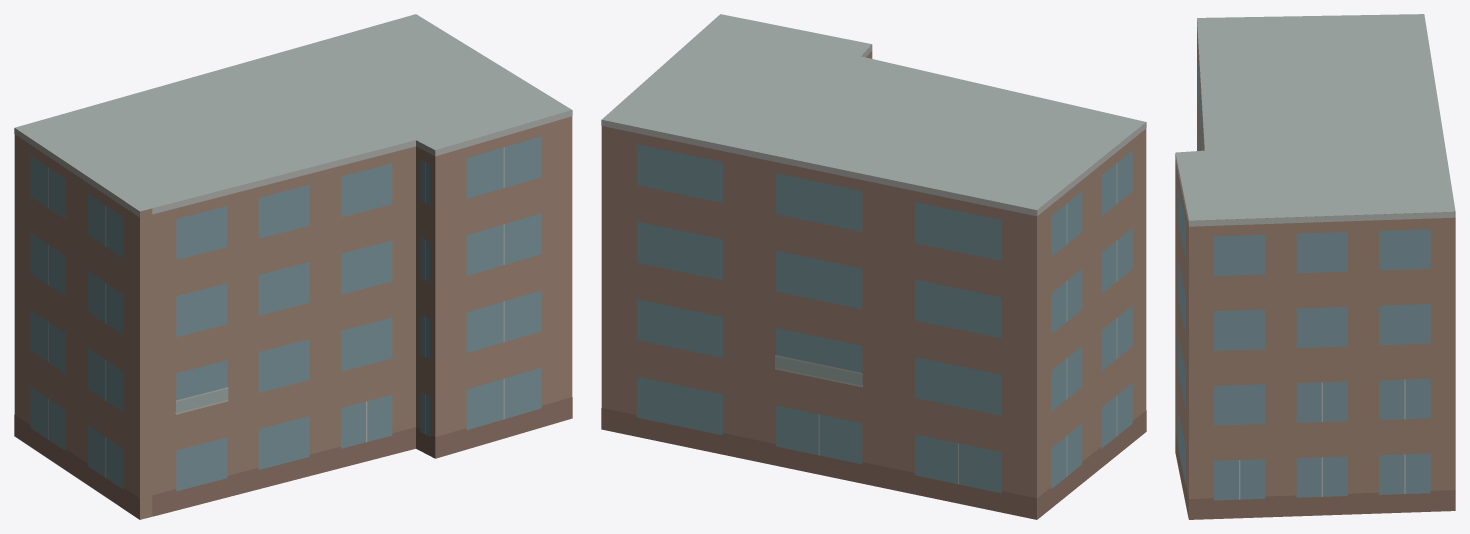
File: survey-upis-32650297.glb
The picture shows the model from 3 angles, left to right: view 1: azimuth 30°, elevation 25°; view 2: azimuth 150°, elevation 25°; view 3: azimuth 270°, elevation 25°; orthographic projection. The views are drawn at different scales.
Visible parts, largest first — view 1: survey-upis-32650297.tmp; view 2: survey-upis-32650297.tmp; view 3: survey-upis-32650297.tmp.
Boxes of the visible parts, <box> form: survey-upis-32650297.tmp: <box>14,14,572,519</box>; survey-upis-32650297.tmp: <box>601,14,1146,519</box>; survey-upis-32650297.tmp: <box>1175,14,1455,519</box>.
Size of the model in its own units: 18.09 by 12.2 by 10.37.
